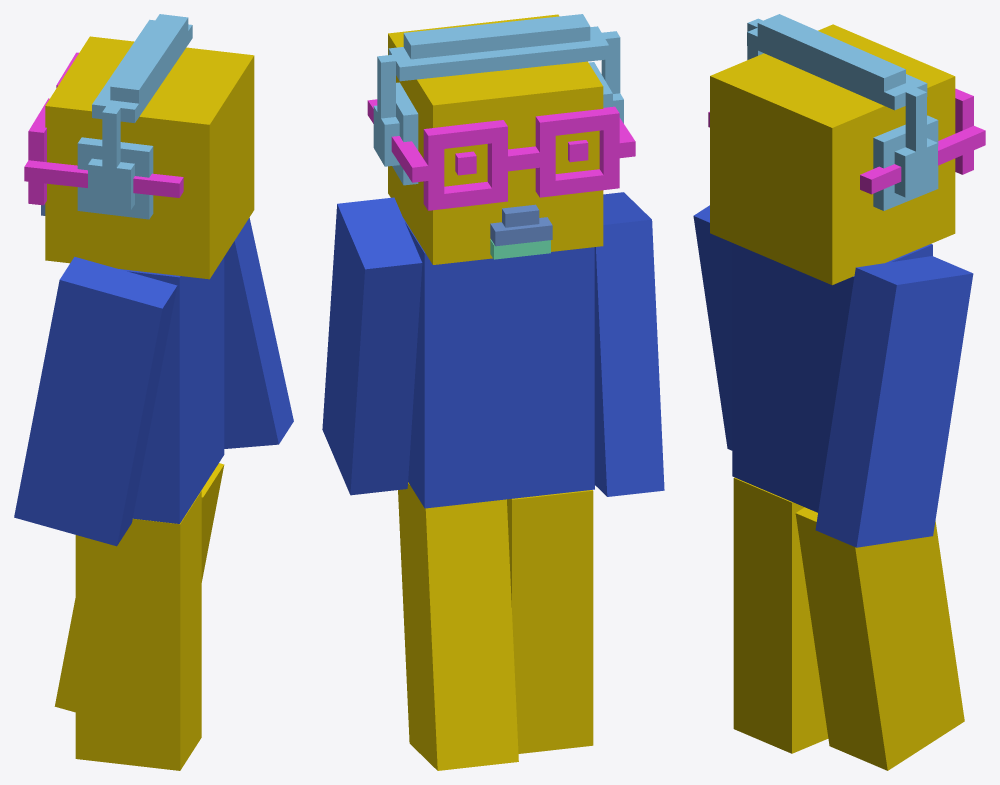
Rendered from vox2.gltf.
The picture shows the model from 3 angles, left to right: view 1: azimuth 30°, elevation 25°; view 2: azimuth 150°, elevation 25°; view 3: azimuth 270°, elevation 25°; orthographic projection. The views are drawn at different scales.
Visible parts, largest first — view 1: Head, arm, leg, body, arm.1, cube_1 (×2), cube, leg.1, cube_10, cube_9, cube_8, cube_7 (+2 smaller); view 2: body, leg.1, arm.1 (×2), Head, leg, arm (×2), cube_9 (×2), cube_7 (×2), cube_10 (×2), cube_2 (×2), cube, cube_11 (+6 smaller); view 3: Head, arm.1, leg.1, body, leg, arm, cube_2 (×2), cube_10, cube_8, cube_3, cube_9, cube_5 (+1 smaller).
Part boxes in pixels (x1,y1,x2,y2): Head: (45,36,254,279); arm: (14,256,177,546); leg: (75,491,201,770); body: (120,257,224,523); arm.1: (224,218,293,448); cube_1 (×2): (24,158,183,210); cube: (77,137,153,219); leg.1: (54,463,224,712); cube_10: (124,15,188,103); cube_9: (110,14,173,101); cube_8: (120,24,192,123); cube_7: (92,19,154,119); body: (403,218,594,508); leg.1: (398,482,518,770); arm.1 (×2): (322,197,552,495); Head: (388,14,603,264); leg: (507,490,593,753); arm (×2): (490,192,664,496); cube_9 (×2): (407,20,590,210); cube_7 (×2): (396,39,608,188); cube_10 (×2): (403,14,619,197); cube_2 (×2): (367,99,428,182); cube: (423,120,507,150); cube_11: (535,106,619,137); Head: (710,24,955,285); arm.1: (815,256,973,547); leg.1: (795,507,964,770); body: (732,243,932,512); leg: (733,477,828,753); arm: (693,205,732,450); cube_2 (×2): (860,126,985,197); cube_10: (757,18,894,91); cube_8: (747,28,905,110); cube_3: (873,115,938,210); cube_9: (769,14,905,87); cube_5: (905,106,926,151).
Bounding box in the file's own units: 1.38 × 2.95 × 1.12.
